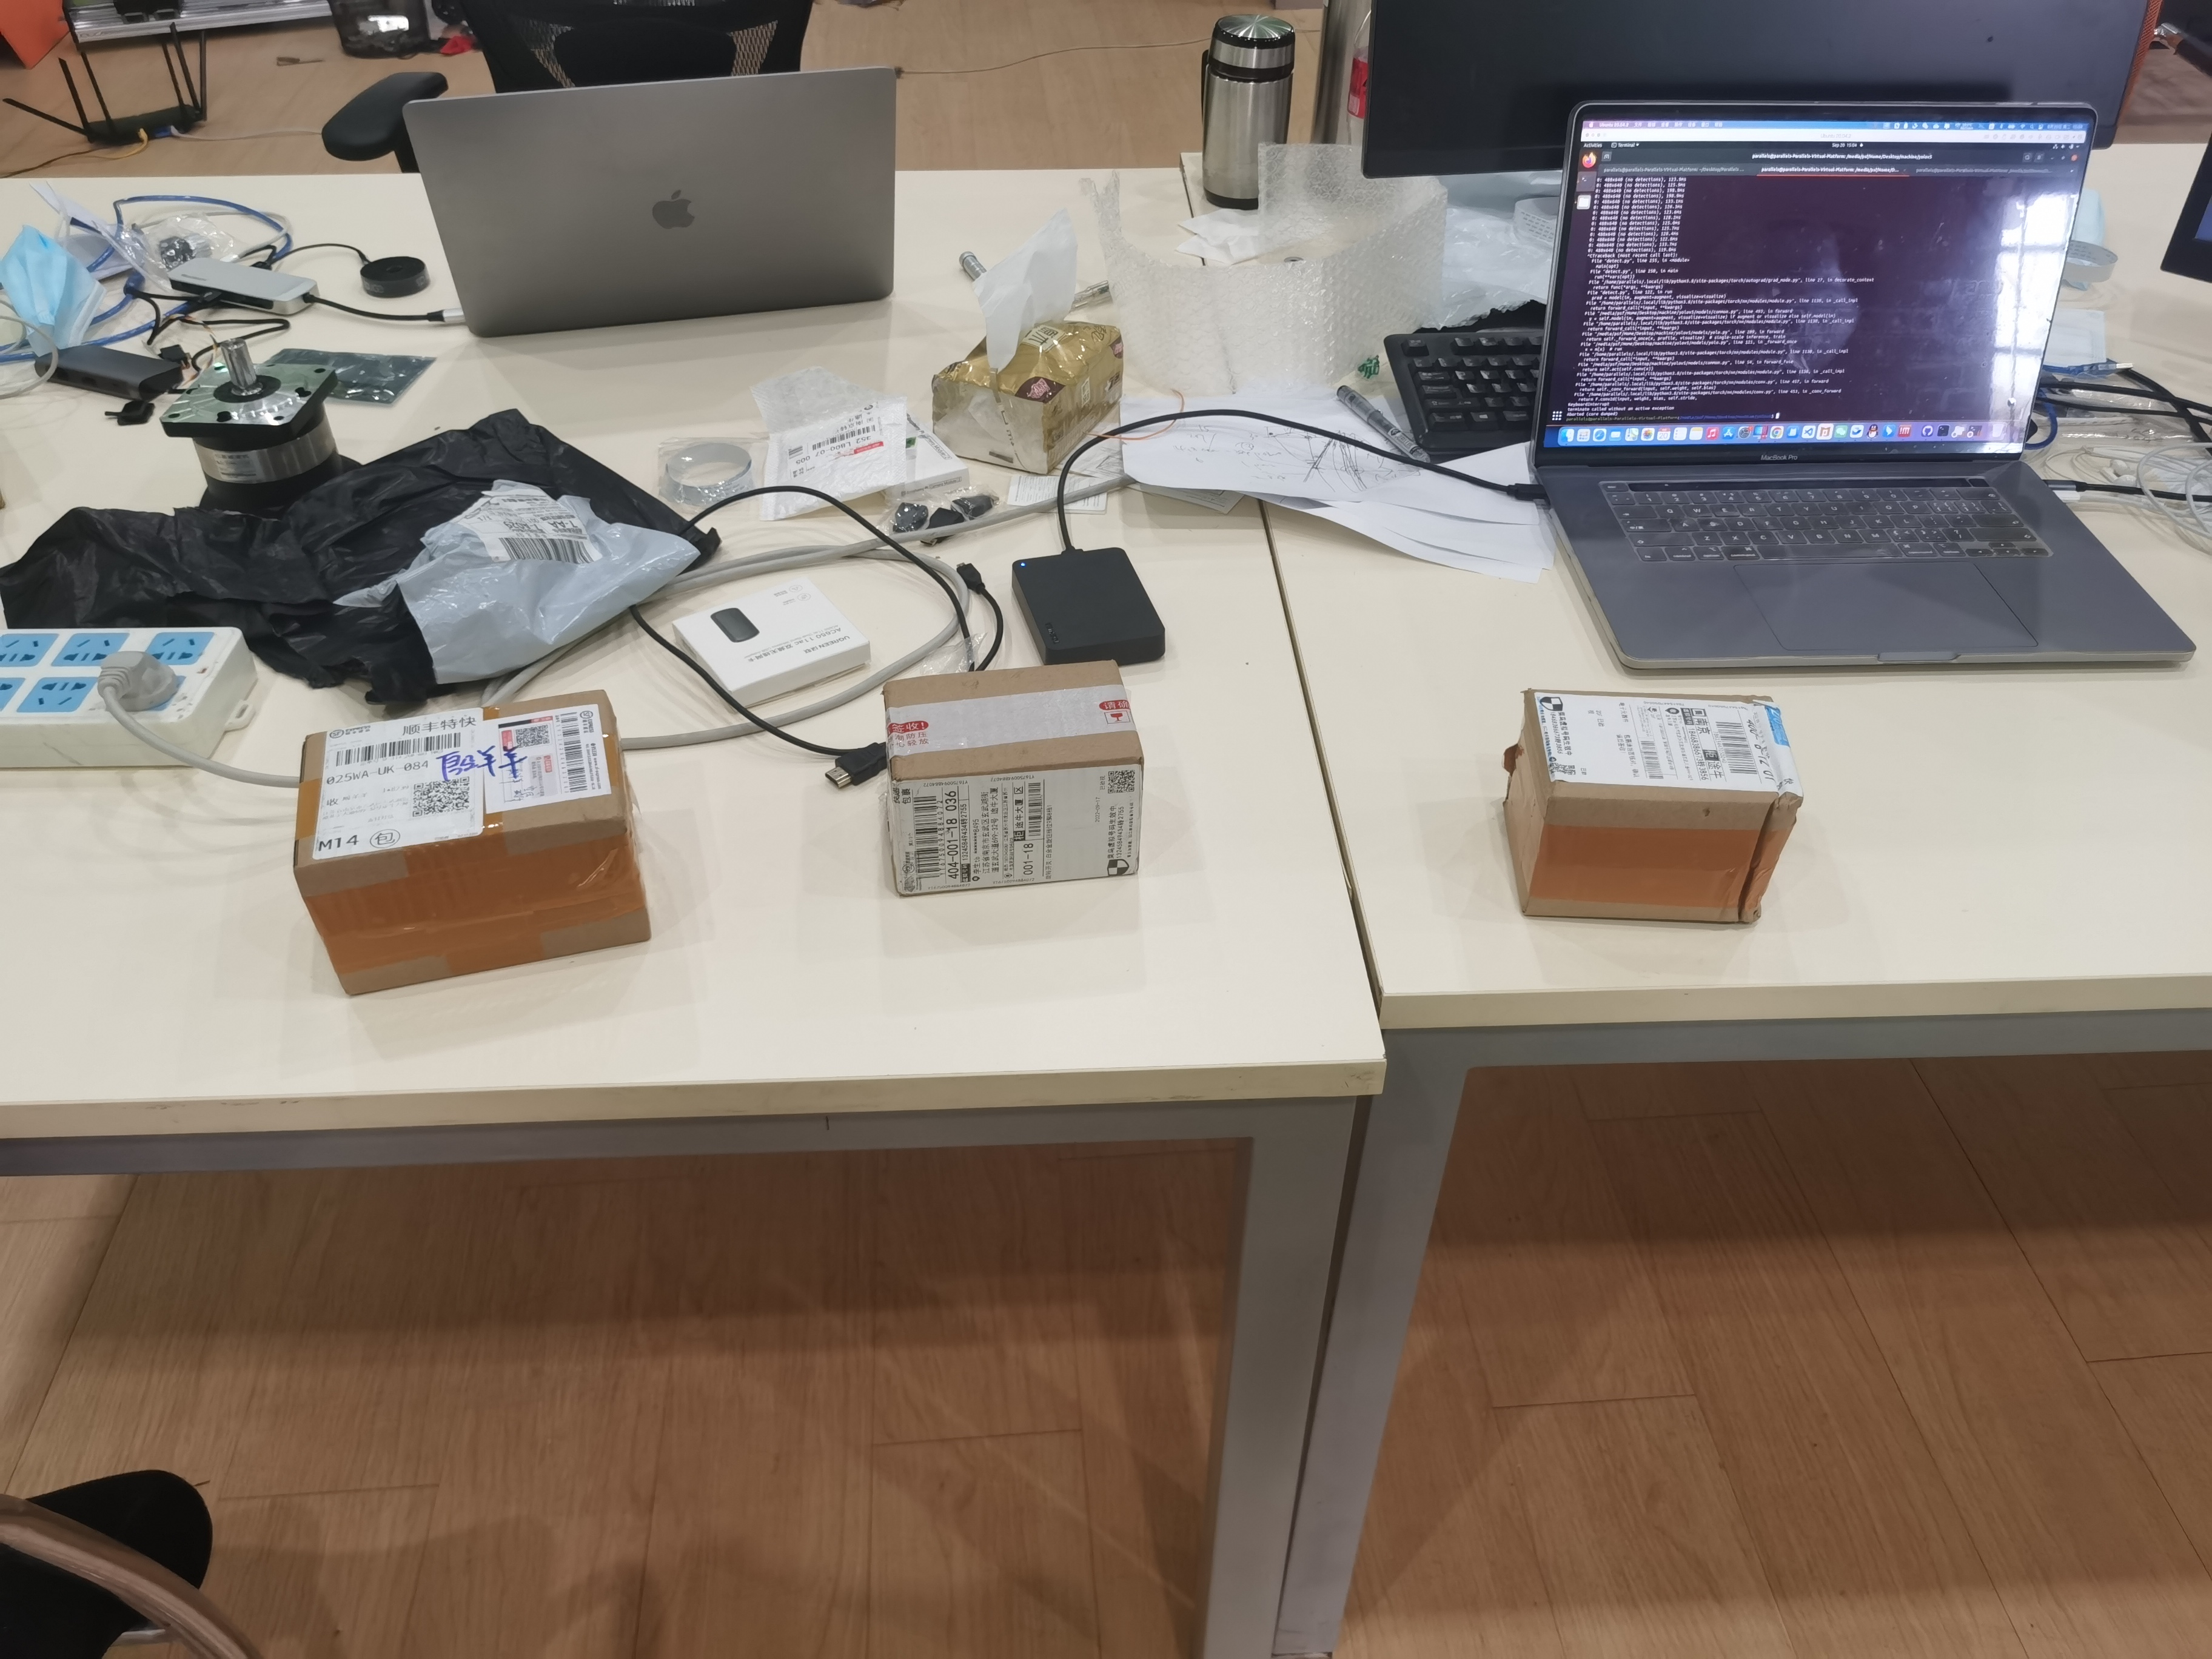box: (280, 713, 685, 1014), (1494, 681, 1808, 938), (874, 667, 1148, 899)
